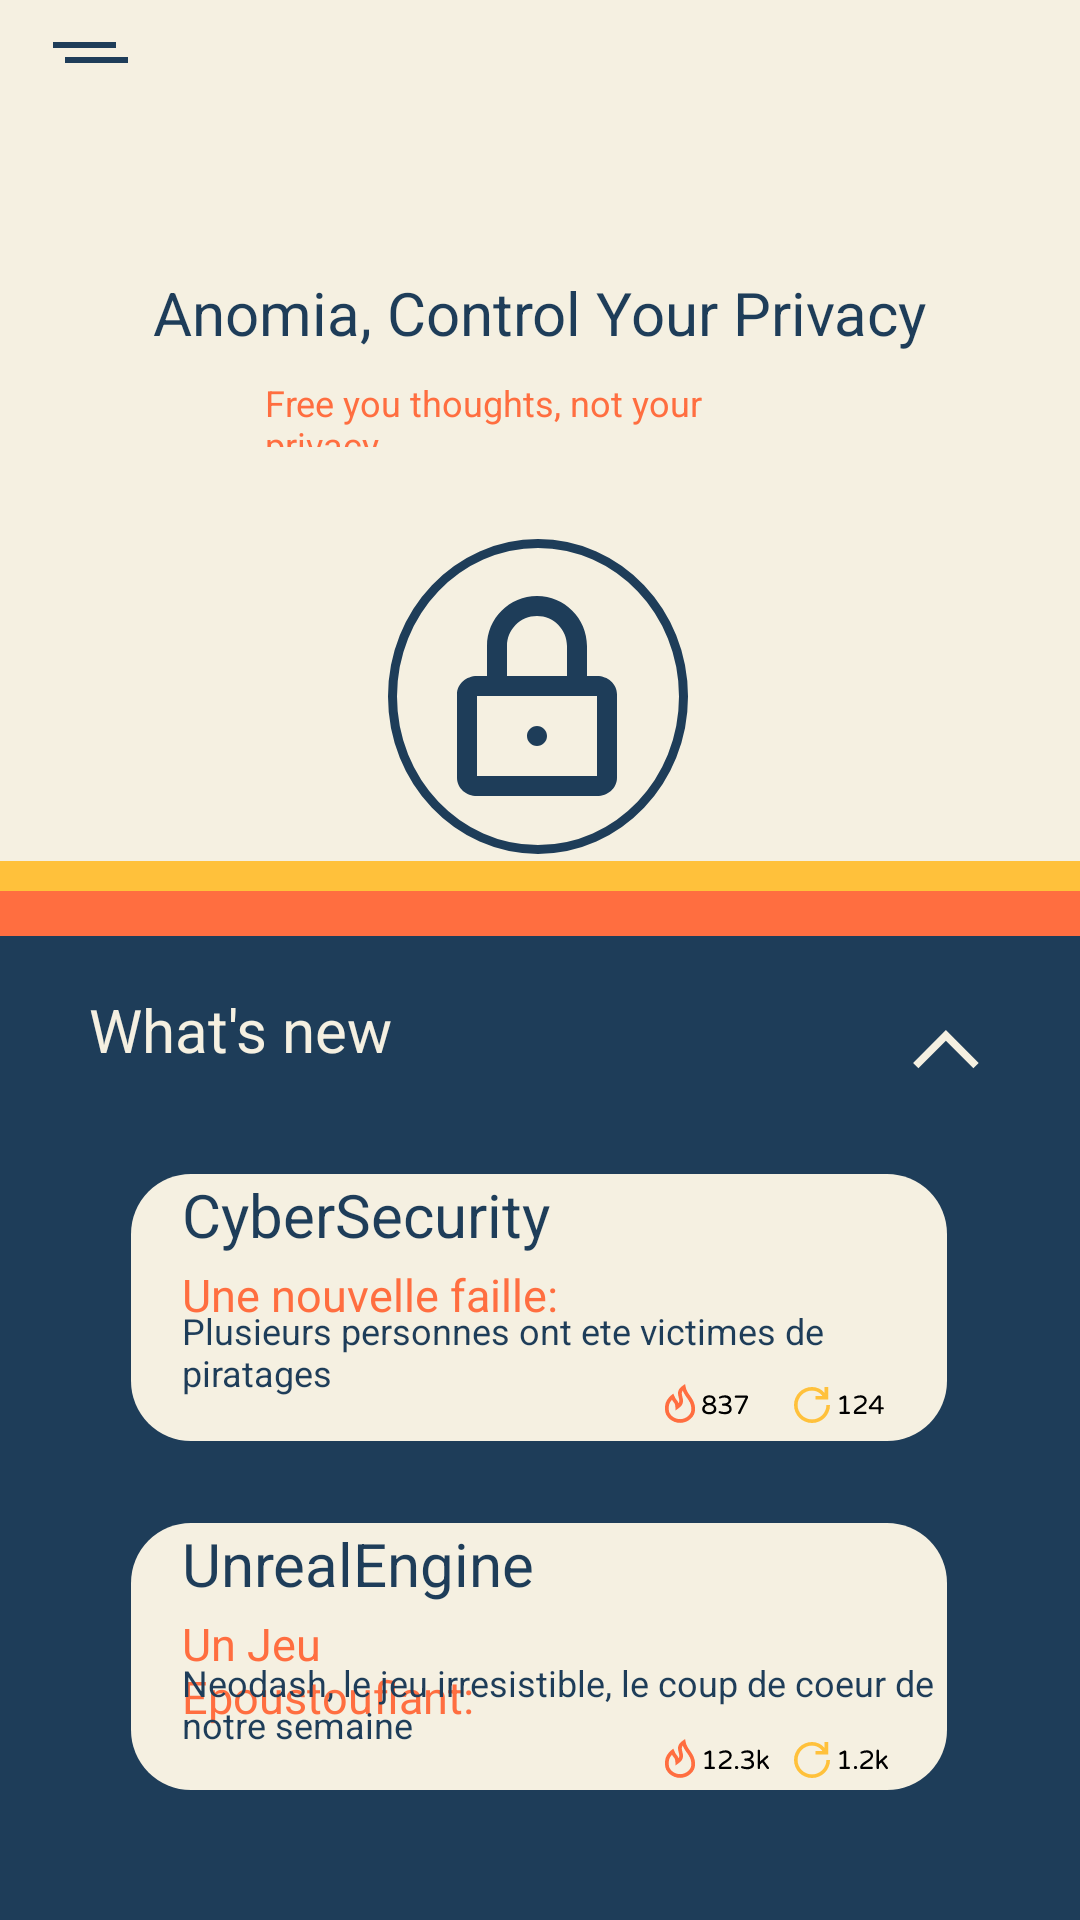

Named icons in this screenshot (1080×1920) and their centers, (x=x, y=y):
cadenas: (x=538, y=696)
fleche haut: (x=946, y=1049)
menu: (x=90, y=52)
